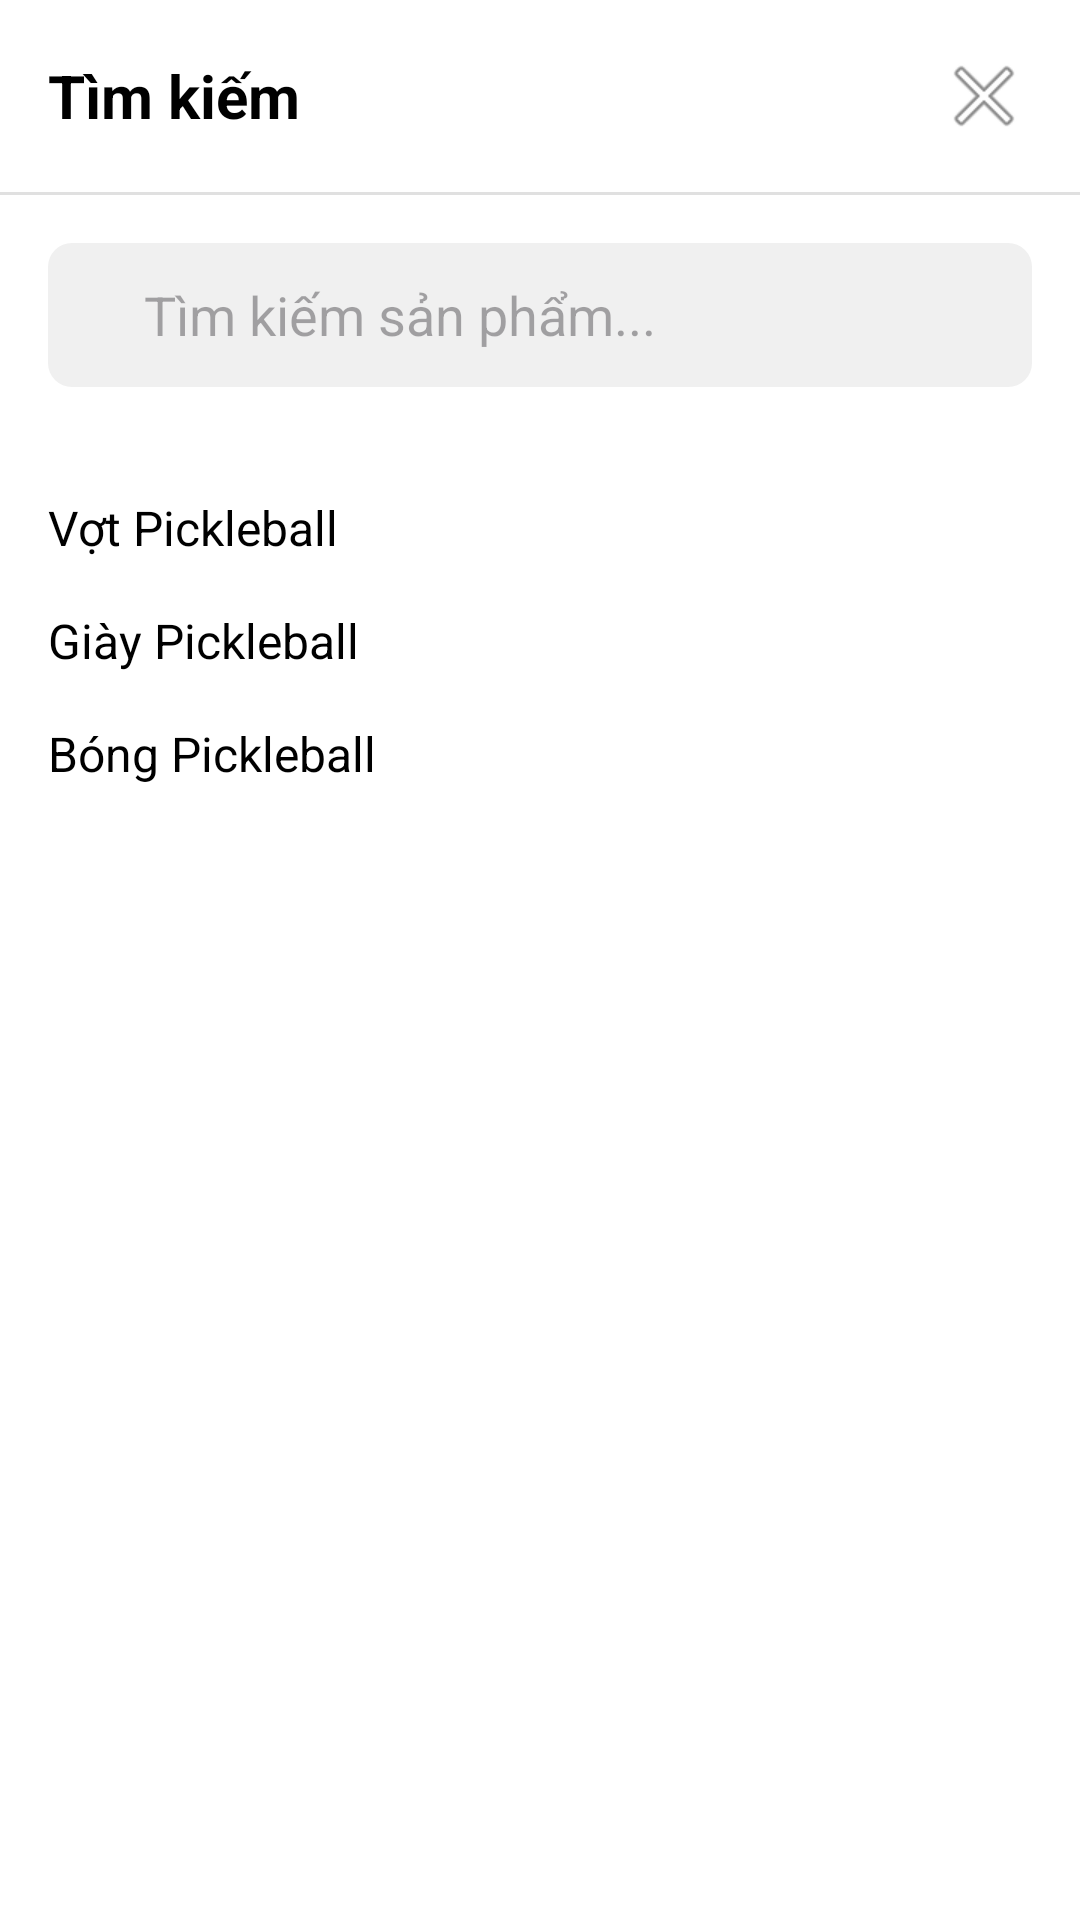

Point at icon controls on the screen. Image size 1080 x 1920, points as (x,y).
Đóng: (984,96)
